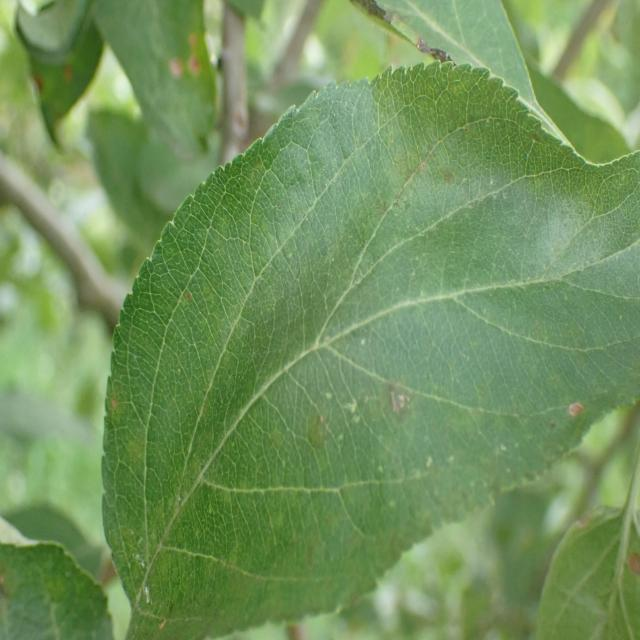scab: (278, 328, 628, 562), (194, 70, 542, 295)
